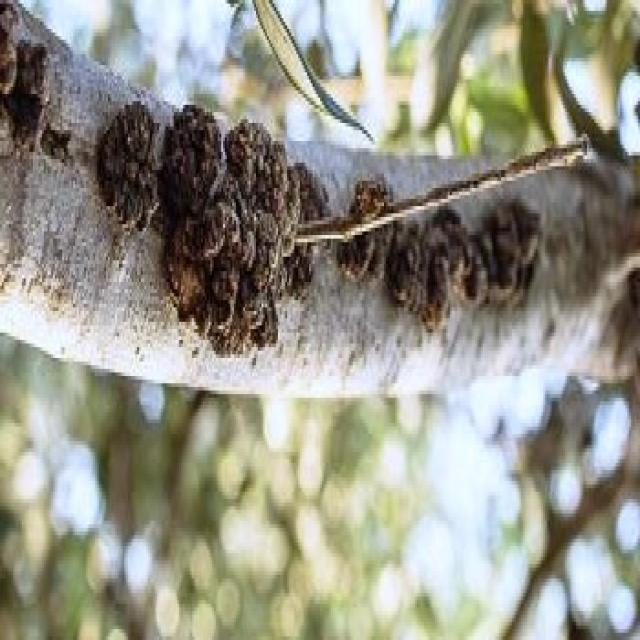Tuberculosis: (164, 105, 326, 351), (338, 192, 525, 329), (99, 87, 159, 235), (0, 0, 48, 158), (353, 174, 395, 217)
